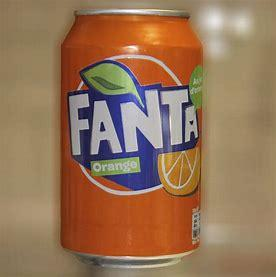metal: (61, 10, 203, 268)
